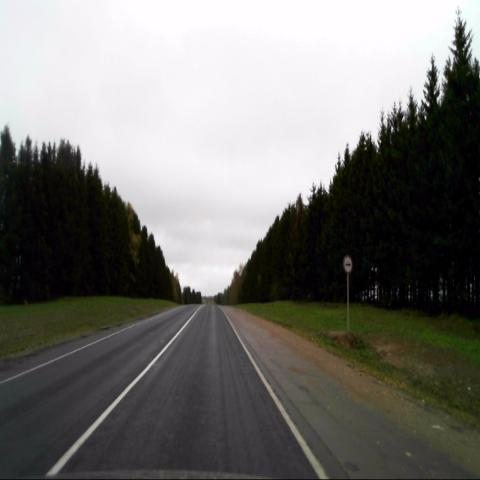3_20: (342, 255, 354, 273)
